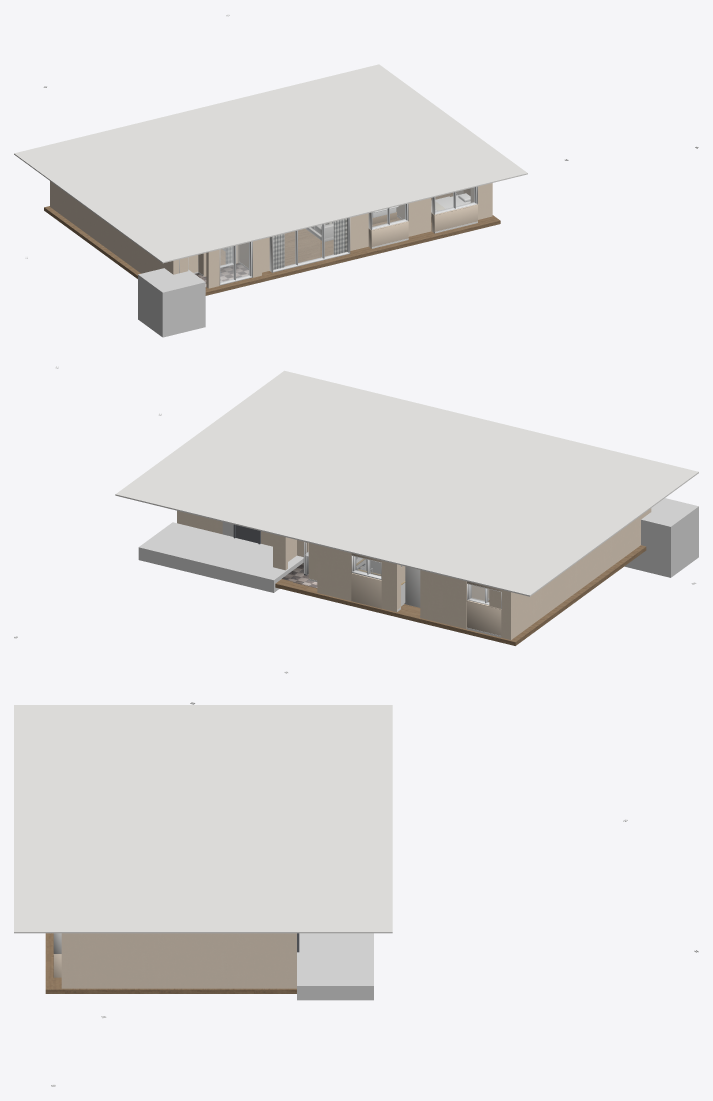
Rendered from house.glb.
3 views of the same model, one above another, from view 1: azimuth 30°, elevation 25°; view 2: azimuth 150°, elevation 25°; view 3: azimuth 270°, elevation 25° (orthographic). The views are drawn at different scales.
Visible parts, largest first — view 1: Ceiling_Slab, Exact_Floor, Cube, ExactWall_13, ExactWall_2, ExactWall_4, SillPatch_Bed3_SillWall, Win_Living_Glass_1, Win_Living_Glass_2, Win_Living_Glass_3, SillPatch_Bed2_SillWall, ExactWall_3 (+3 smaller); view 2: Ceiling_Slab, Void_Elevator_Hall_Cutter, ExactWall_13, Cube, Exact_Floor, ExactWall_11, ExactWall_8, ExactWall_10, ExactWall_7, SillPatch_Dress_SillWall, SillPatch_Kitchen_SillWall, Kitchen_Fridge_Wall_Surround (+1 smaller); view 3: Ceiling_Slab, ExactWall_5, Void_Elevator_Hall_Cutter, Exact_Floor.
Part boxes in pixels (x1=…): Ceiling_Slab: x1=14, y1=64, x2=527, y2=263; Exact_Floor: x1=44, y1=206, x2=500, y2=295; Cube: x1=138, y1=268, x2=205, y2=337; ExactWall_13: x1=50, y1=181, x2=206, y2=276; ExactWall_2: x1=396, y1=198, x2=431, y2=236; ExactWall_4: x1=224, y1=237, x2=269, y2=277; SillPatch_Bed3_SillWall: x1=431, y1=205, x2=477, y2=233; Win_Living_Glass_1: x1=273, y1=231, x2=295, y2=269; Win_Living_Glass_2: x1=298, y1=225, x2=320, y2=263; Win_Living_Glass_3: x1=321, y1=219, x2=344, y2=257; SillPatch_Bed2_SillWall: x1=368, y1=222, x2=408, y2=248; ExactWall_3: x1=350, y1=213, x2=368, y2=250; Ceiling_Slab: x1=115, y1=370, x2=698, y2=596; Void_Elevator_Hall_Cutter: x1=138, y1=522, x2=303, y2=592; ExactWall_13: x1=489, y1=508, x2=651, y2=639; Cube: x1=624, y1=498, x2=698, y2=577; Exact_Floor: x1=275, y1=545, x2=646, y2=645; ExactWall_11: x1=420, y1=570, x2=489, y2=629; ExactWall_8: x1=308, y1=543, x2=351, y2=600; ExactWall_10: x1=381, y1=560, x2=405, y2=612; ExactWall_7: x1=261, y1=531, x2=308, y2=570; SillPatch_Dress_SillWall: x1=467, y1=601, x2=501, y2=635; SillPatch_Kitchen_SillWall: x1=351, y1=573, x2=381, y2=608; Kitchen_Fridge_Wall_Surround: x1=405, y1=566, x2=420, y2=607; Ceiling_Slab: x1=14, y1=705, x2=392, y2=933; ExactWall_5: x1=61, y1=933, x2=296, y2=988; Void_Elevator_Hall_Cutter: x1=297, y1=933, x2=373, y2=1000; Exact_Floor: x1=45, y1=933, x2=296, y2=993.
Size of what is drawn, in the model's own units: 28.8 by 3.35 by 21.7.
Materials: 45 (11 with a texture image).
